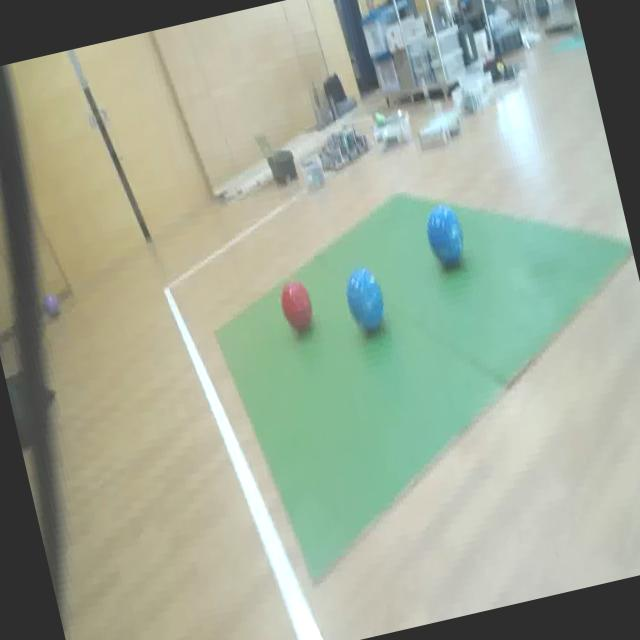blue_ball: (418, 198, 470, 273), (339, 264, 392, 334)
purple_ball: (40, 289, 64, 323)
red_ball: (274, 274, 318, 336)
